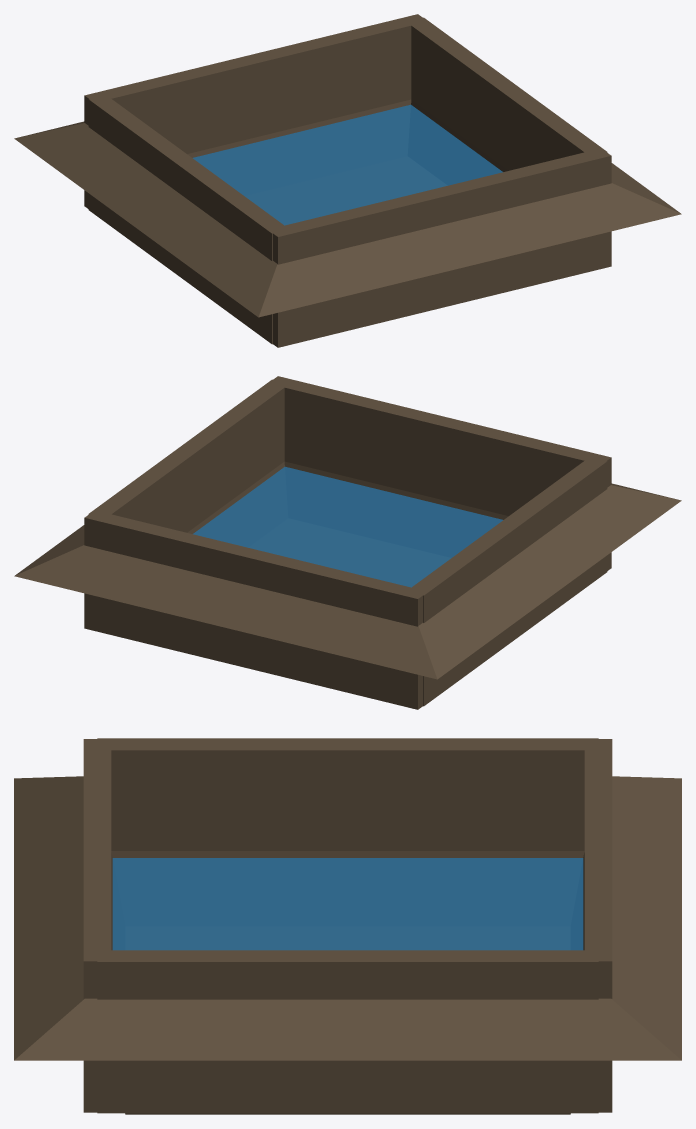
The model's file is water_pit.obj.
3 renders of one model, top to bottom at view 1: azimuth 30°, elevation 25°; view 2: azimuth 150°, elevation 25°; view 3: azimuth 270°, elevation 25°, orthographic. The views are drawn at different scales.
Size of the model in its own units: 2.4 by 0.675 by 2.4.
